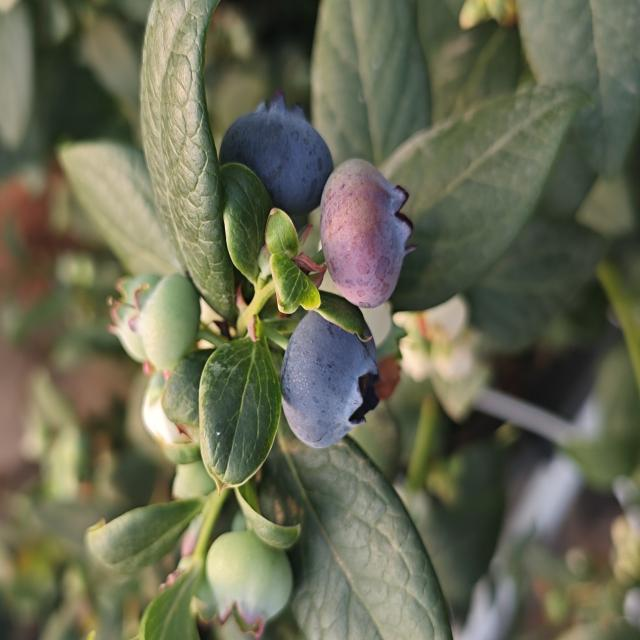ripe: (317, 156, 418, 312), (217, 90, 335, 223), (277, 306, 383, 452)
